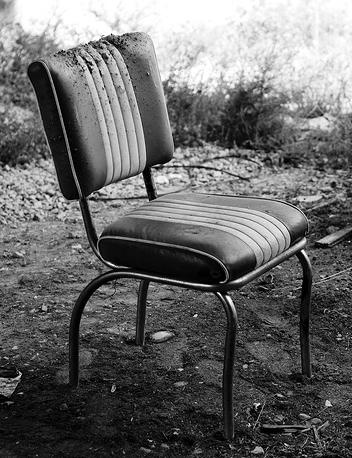obstacle: (28, 32, 311, 438)
